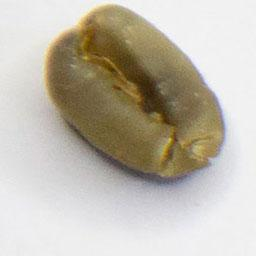peaberry: (41, 1, 229, 182)
